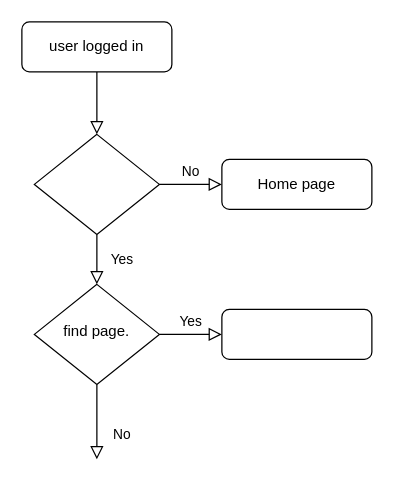
The diagram is 394 pixels wide and 494 high, and some of its shapes have lost their labels. Each missing label, with the centre of its shape:
"Replace Bulb" belongs at point (296, 333).
"User logged in?" belongs at point (96, 183).
